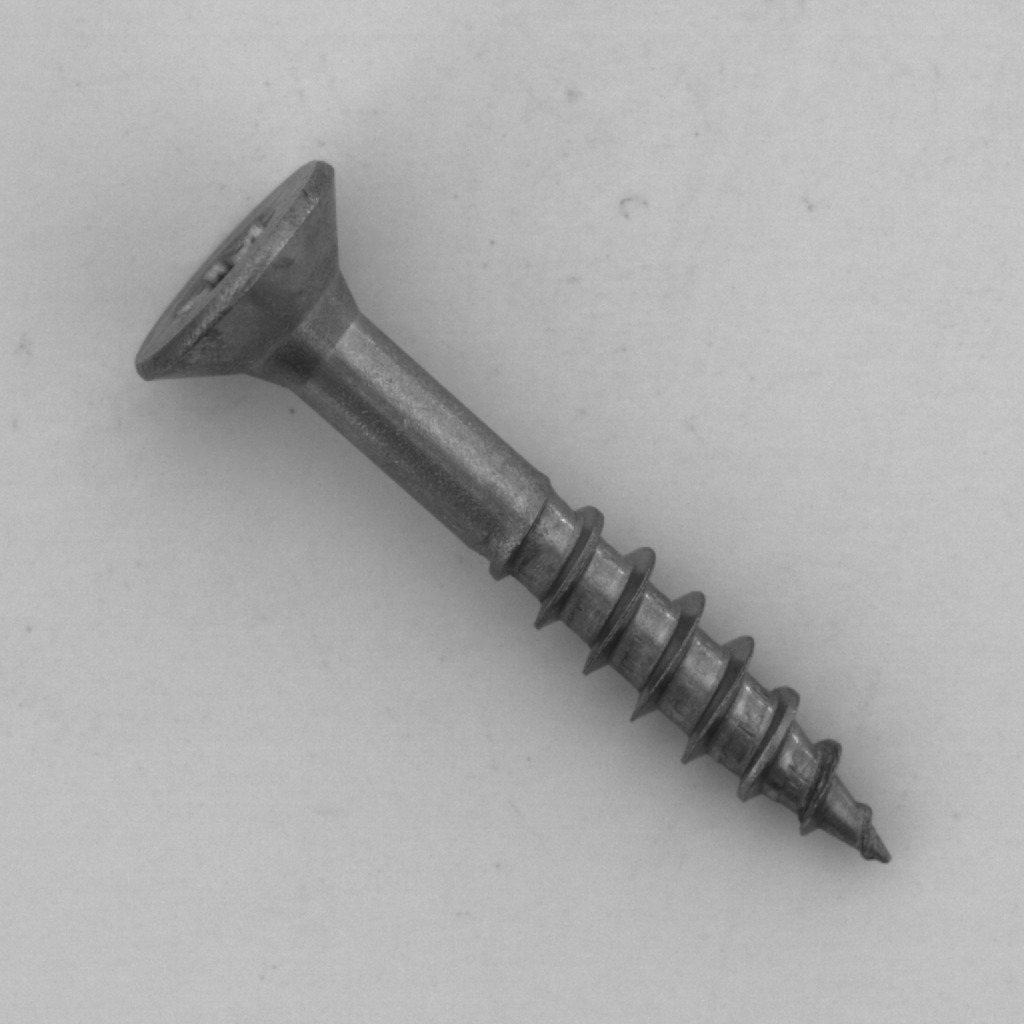good: (124, 149, 911, 898)
